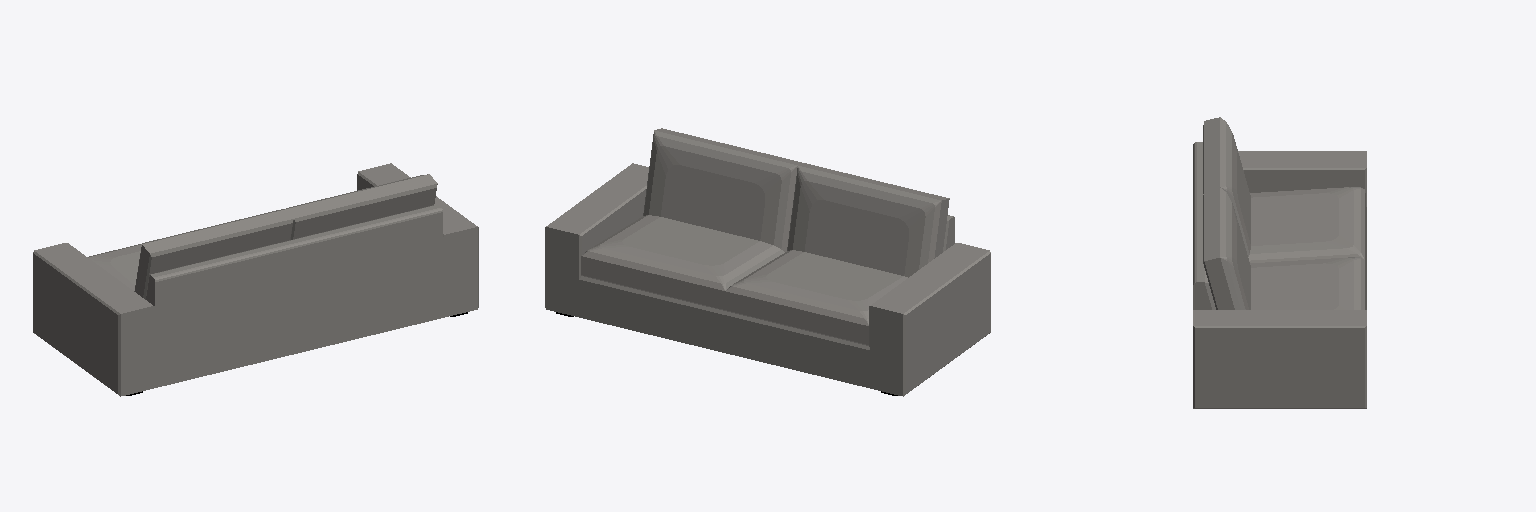
The picture shows the model from 3 angles: view 1: azimuth 30°, elevation 25°; view 2: azimuth 150°, elevation 25°; view 3: azimuth 270°, elevation 25°; orthographic projection.
Parts seen in each view (by area): view 1: Mesh5 _KIVIK_three_seat_sofa1 Model; view 2: Mesh5 _KIVIK_three_seat_sofa1 Model; view 3: Mesh5 _KIVIK_three_seat_sofa1 Model.
Boxes of the visible parts, <box> form: Mesh5 _KIVIK_three_seat_sofa1 Model: <box>33,163,478,396</box>; Mesh5 _KIVIK_three_seat_sofa1 Model: <box>545,128,990,396</box>; Mesh5 _KIVIK_three_seat_sofa1 Model: <box>1193,117,1366,408</box>.
Size of the model in its own units: 0.8838 by 0.3216 by 0.3682.